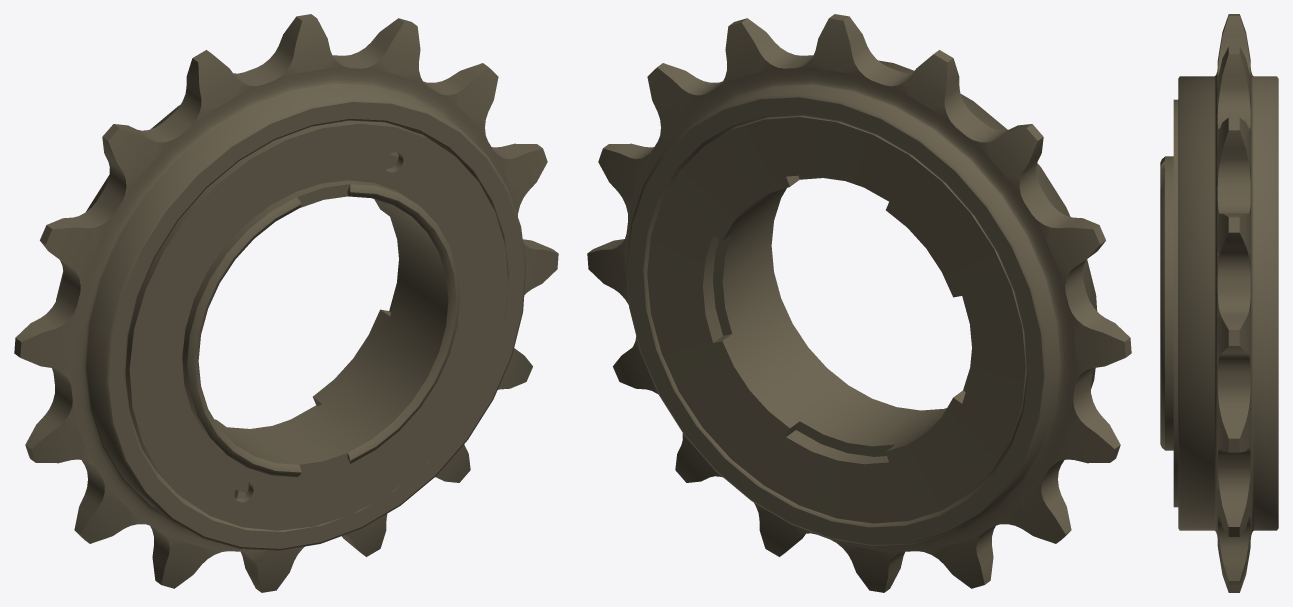
Rendered from Catraca RL 16.gltf.
3 renders of one model, left to right at view 1: azimuth 30°, elevation 25°; view 2: azimuth 150°, elevation 25°; view 3: azimuth 270°, elevation 25°, orthographic. The views are drawn at different scales.
Parts seen in each view (by area): view 1: Cylinder.004, Cylinder.006, Cylinder.007; view 2: Cylinder.004, Cylinder.007; view 3: Cylinder.004, Cylinder.007, Cylinder.006.
Boxes of the visible parts, x1=… form: Cylinder.004: x1=14, y1=14, x2=558, y2=592; Cylinder.006: x1=125, y1=120, x2=508, y2=530; Cylinder.007: x1=182, y1=152, x2=459, y2=493; Cylinder.004: x1=587, y1=14, x2=1131, y2=592; Cylinder.007: x1=647, y1=116, x2=1026, y2=523; Cylinder.004: x1=1178, y1=14, x2=1278, y2=592; Cylinder.007: x1=1160, y1=156, x2=1173, y2=450; Cylinder.006: x1=1173, y1=99, x2=1178, y2=507.
Size of the model in its own units: 2.55 by 2.55 by 0.5196.
